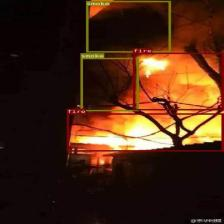fire: (66, 113, 223, 151), (132, 52, 223, 110)
smoke: (86, 1, 170, 52), (80, 58, 138, 111)
